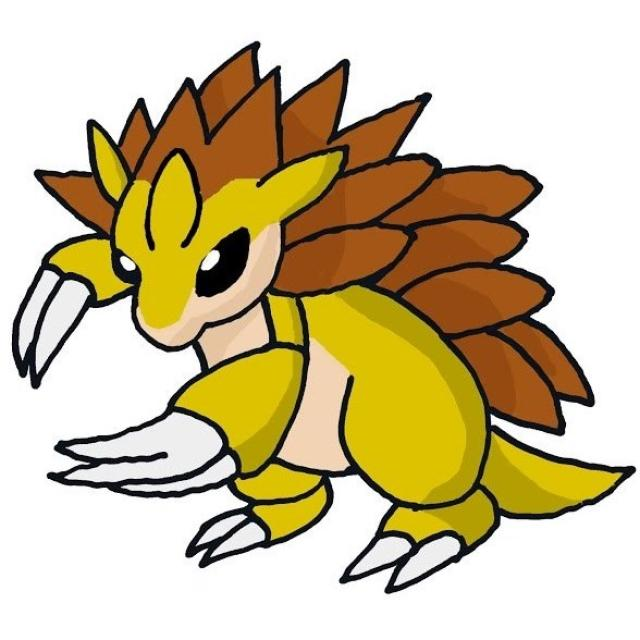Sandslash: (43, 78, 506, 572)
